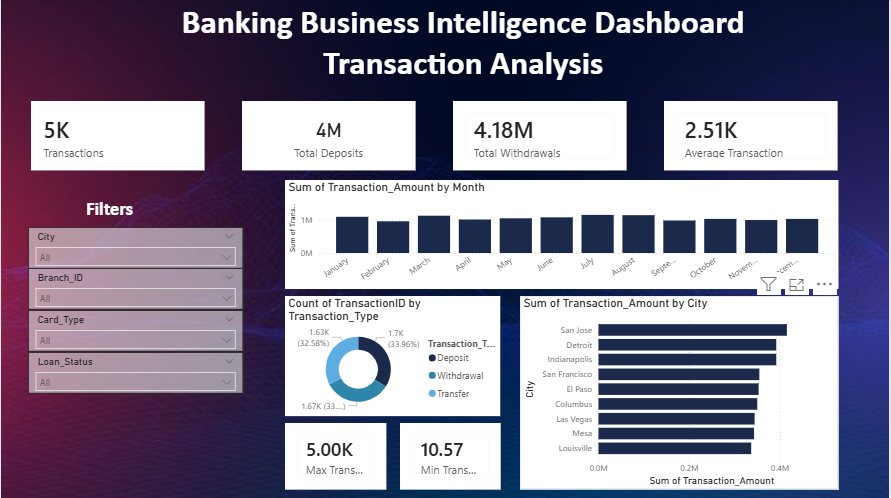

Layout of this report page (visuals, bound fields, positions):
{"tool":"powerbi","page":{"name":"Transaction Analysis","canvas":[1280,720],"ordinal":2},"visuals":[{"type":"textbox","box":[143.3,0,1043.3,148.3],"z":0},{"type":"cardVisual","fields":{"Data":["Banking_Capstone_Cleaned_Dataset.Transactions"]},"box":[43.3,148.3,250,100],"z":1000},{"type":"card","fields":{"Values":["Banking_Capstone_Cleaned_Dataset.Total Deposits"]},"box":[347.2,148.3,250,100],"z":2000},{"type":"cardVisual","fields":{"Data":["Banking_Capstone_Cleaned_Dataset.Total Withdrawals"]},"box":[651.1,148.3,250,100],"z":3000},{"type":"cardVisual","fields":{"Data":["Banking_Capstone_Cleaned_Dataset.Average Transaction"]},"box":[955,148.3,250,100],"z":4000},{"type":"slicer","fields":{"Values":["Banking_Capstone_Cleaned_Dataset.City"]},"box":[39.2,329.3,310,60],"z":5000},{"type":"slicer","fields":{"Values":["Banking_Capstone_Cleaned_Dataset.Branch_ID"]},"box":[38.9,389.1,310,60],"z":6000},{"type":"slicer","fields":{"Values":["Banking_Capstone_Cleaned_Dataset.Loan_Status"]},"box":[38.7,509.1,310,60.5],"z":7000},{"type":"textbox","box":[38.4,282,234.7,47.5],"z":8000},{"type":"slicer","fields":{"Values":["Banking_Capstone_Cleaned_Dataset.Card_Type"]},"box":[38.4,448.9,310,60.5],"z":9000},{"type":"clusteredColumnChart","fields":{"Category":["Banking_Capstone_Cleaned_Dataset.Transaction_Month.Variation.Date Hierarchy.Month"],"Y":["Sum(Banking_Capstone_Cleaned_Dataset.Transaction_Amount)"]},"box":[408.6,261.4,797.1,157.1],"z":10000},{"type":"donutChart","fields":{"Category":["Banking_Capstone_Cleaned_Dataset.Transaction_Type"],"Y":["CountNonNull(Banking_Capstone_Cleaned_Dataset.TransactionID)"]},"box":[408.6,428.6,310,172.9],"z":11000},{"type":"clusteredBarChart","fields":{"Y":["Sum(Banking_Capstone_Cleaned_Dataset.Transaction_Amount)"],"Category":["Banking_Capstone_Cleaned_Dataset.City"]},"box":[747.1,428.6,458.6,278.6],"z":12000},{"type":"cardVisual","fields":{"Data":["Banking_Capstone_Cleaned_Dataset.Min Transaction"]},"box":[574.3,611.4,145,95.7],"z":13000},{"type":"cardVisual","fields":{"Data":["Banking_Capstone_Cleaned_Dataset.Max Transaction"]},"box":[408.6,611.4,145.7,95.7],"z":14000}]}

Visuals, with their boxes in screenshot pixels (x1, y1, x2, y2), scaled from the page's 1280x720 canvas onto the 891x498 screenshot:
textbox: bbox=(100, 0, 826, 103)
cardVisual - Banking_Capstone_Cleaned_Dataset.Transactions: bbox=(30, 103, 204, 172)
card - Banking_Capstone_Cleaned_Dataset.Total Deposits: bbox=(242, 103, 416, 172)
cardVisual - Banking_Capstone_Cleaned_Dataset.Total Withdrawals: bbox=(453, 103, 627, 172)
cardVisual - Banking_Capstone_Cleaned_Dataset.Average Transaction: bbox=(665, 103, 839, 172)
slicer - Banking_Capstone_Cleaned_Dataset.City: bbox=(27, 228, 243, 269)
slicer - Banking_Capstone_Cleaned_Dataset.Branch_ID: bbox=(27, 269, 243, 311)
slicer - Banking_Capstone_Cleaned_Dataset.Loan_Status: bbox=(27, 352, 243, 394)
textbox: bbox=(27, 195, 190, 228)
slicer - Banking_Capstone_Cleaned_Dataset.Card_Type: bbox=(27, 310, 243, 352)
clusteredColumnChart - Banking_Capstone_Cleaned_Dataset.Transaction_Month.Variation.Date Hierarchy.Month x Sum(Banking_Capstone_Cleaned_Dataset.Transaction_Amount): bbox=(284, 181, 839, 289)
donutChart - Banking_Capstone_Cleaned_Dataset.Transaction_Type x CountNonNull(Banking_Capstone_Cleaned_Dataset.TransactionID): bbox=(284, 296, 500, 416)
clusteredBarChart - Sum(Banking_Capstone_Cleaned_Dataset.Transaction_Amount) x Banking_Capstone_Cleaned_Dataset.City: bbox=(520, 296, 839, 489)
cardVisual - Banking_Capstone_Cleaned_Dataset.Min Transaction: bbox=(400, 423, 501, 489)
cardVisual - Banking_Capstone_Cleaned_Dataset.Max Transaction: bbox=(284, 423, 386, 489)
